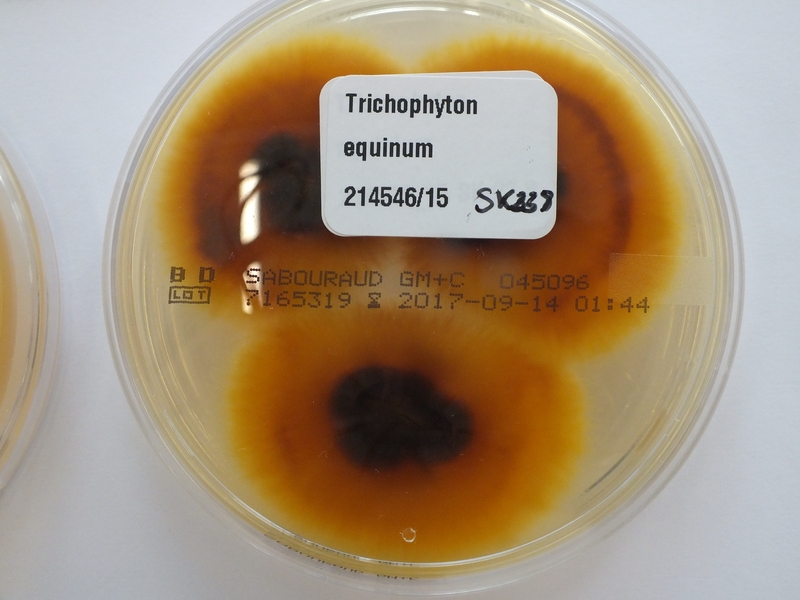Trichophyton: (288, 343, 490, 478)
